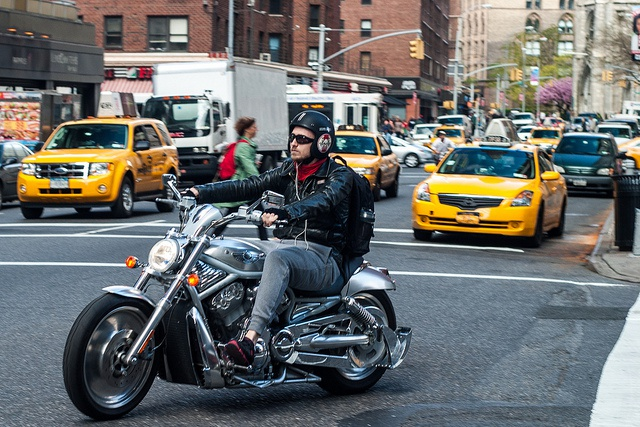non-vehicle: (65, 172, 410, 419), (433, 152, 446, 164)
